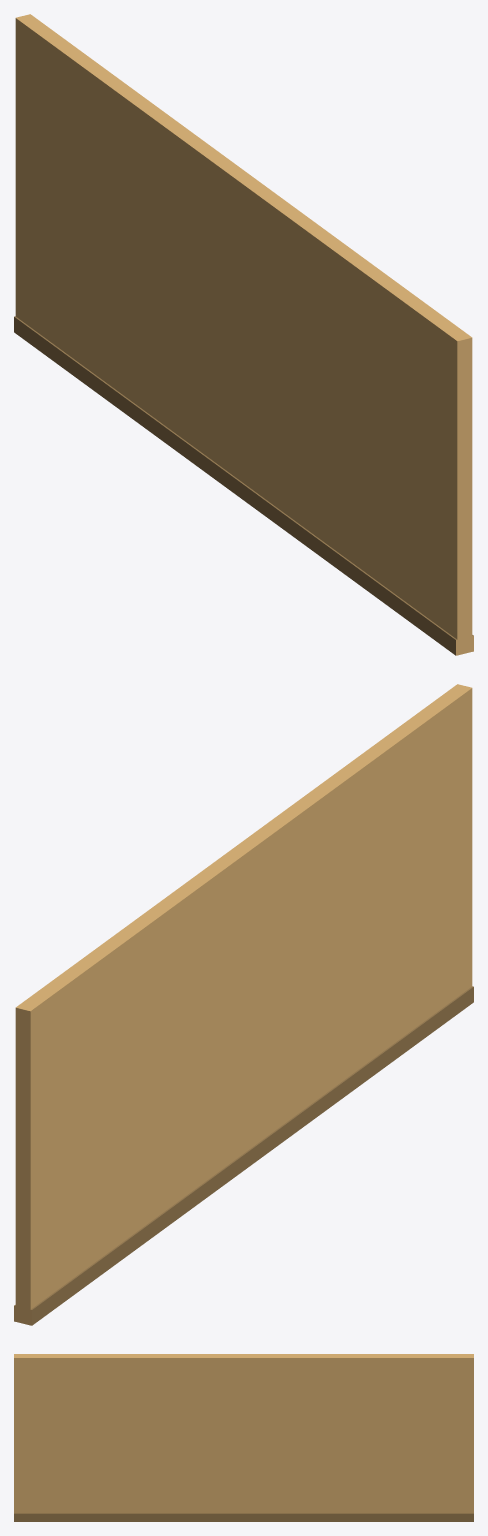
Rendered from Wall.fbx.
The picture shows the model from 3 angles, top to bottom: view 1: azimuth 30°, elevation 25°; view 2: azimuth 150°, elevation 25°; view 3: azimuth 270°, elevation 25°; orthographic projection. The views are drawn at different scales.
Visible parts, largest first — view 1: Wall; view 2: Wall; view 3: Wall.
Part boxes in pixels (x1=…): Wall: x1=14, y1=14, x2=473, y2=655; Wall: x1=14, y1=684, x2=473, y2=1325; Wall: x1=14, y1=1354, x2=473, y2=1521.
Bounding box in the file's own units: 240 × 4000 × 10200.
